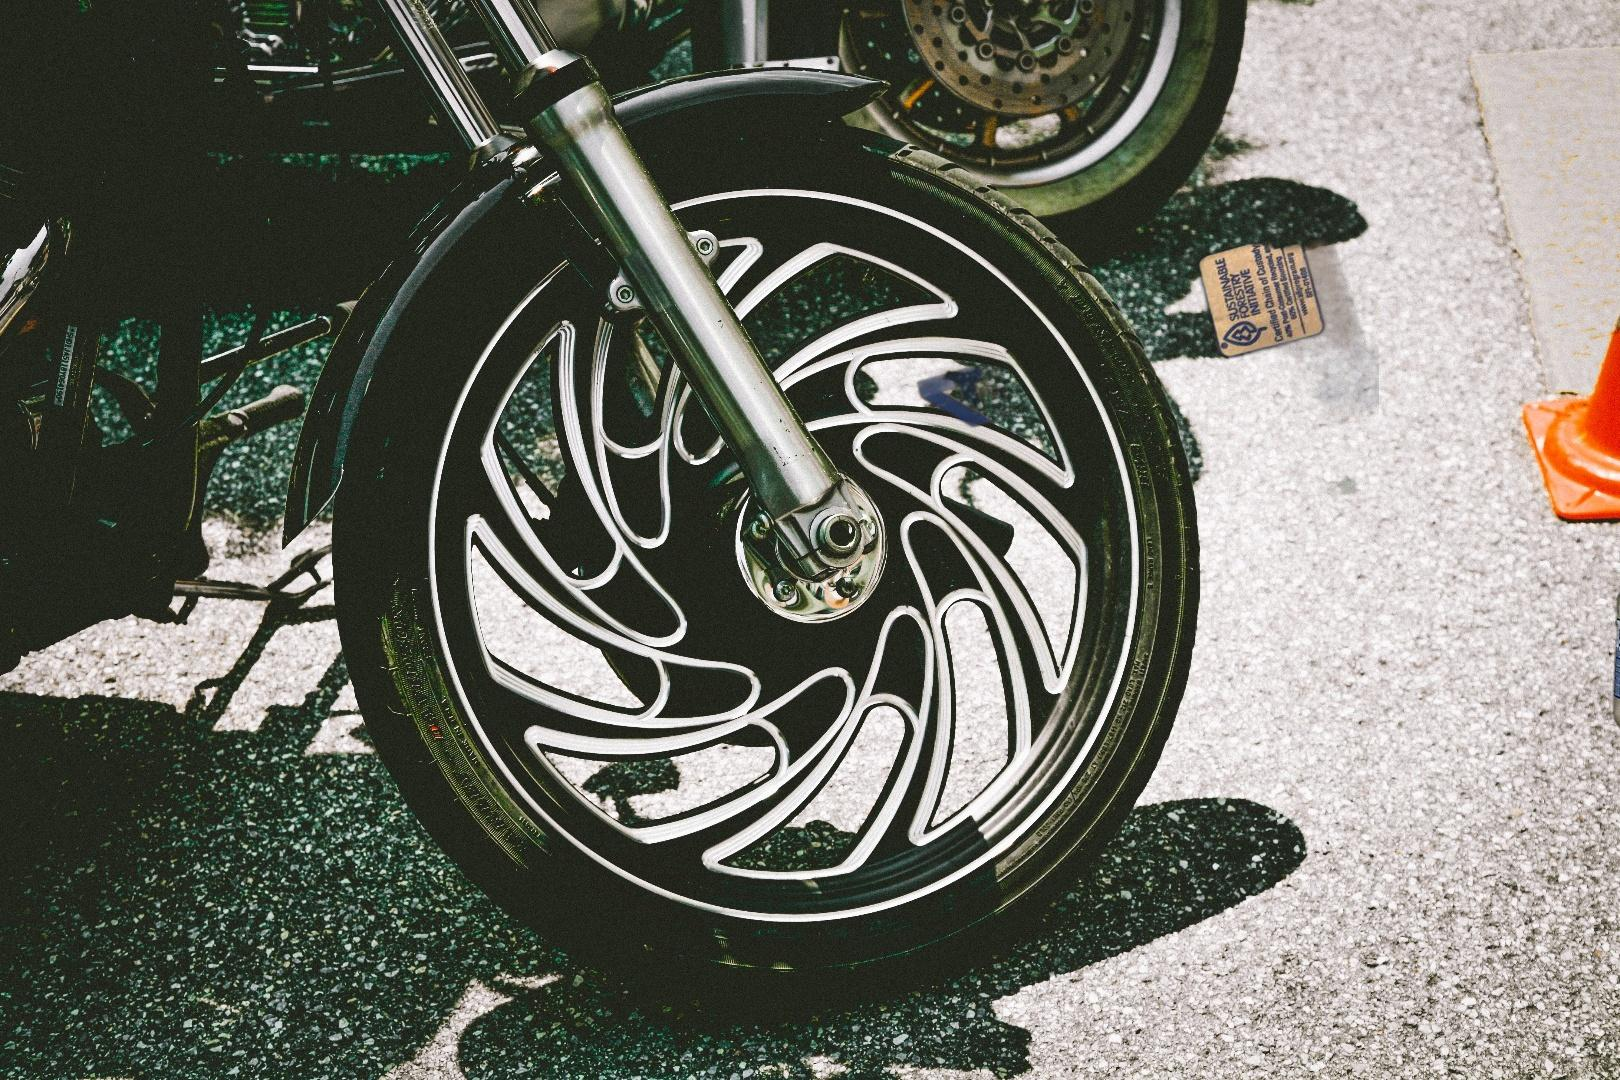glass: (1609, 585, 1620, 805)
trashbox-cardboard: (877, 171, 1379, 432)
